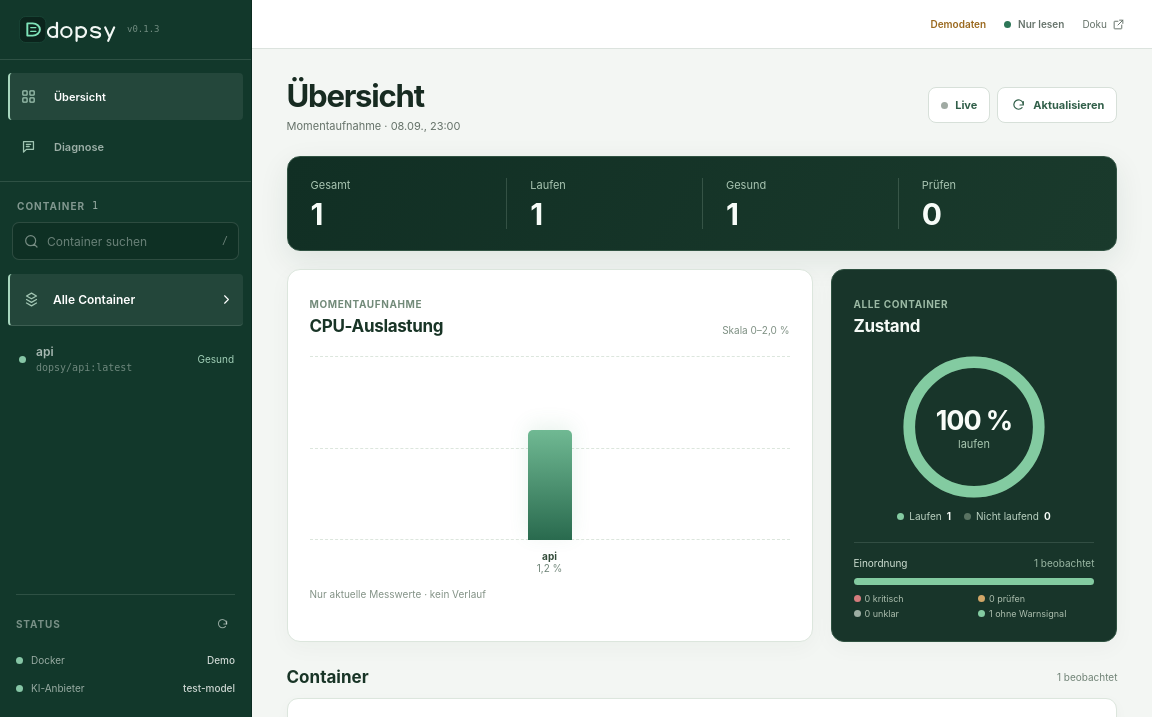
Test: Dopsy app › shows the provider privacy warning when demo mode uses configured AI
This screenshot has width=1152, height=717.
Click the button "Diagnose": coordinates (126, 146) [8, 123, 243, 170]
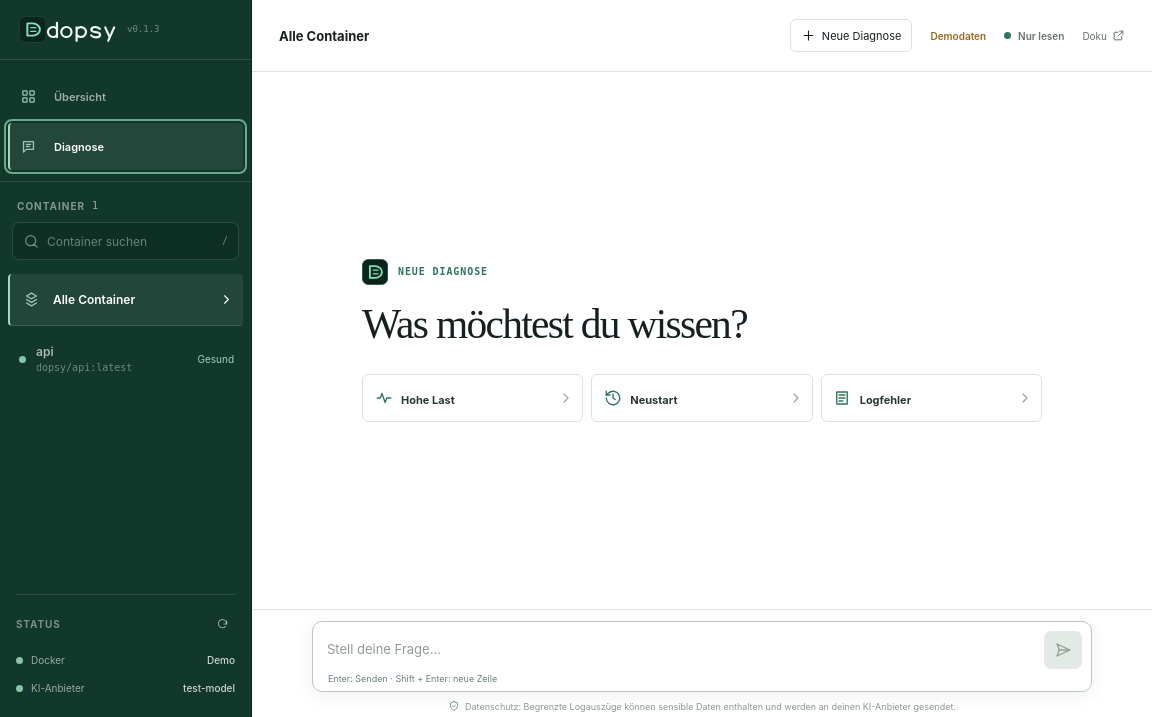
Expected: the text "Demodaten" is shown, [930, 30, 986, 42]
Now the text "Begrenzte Logauszüge können sensible Daten enthalten" is shown, box [465, 700, 956, 712]
